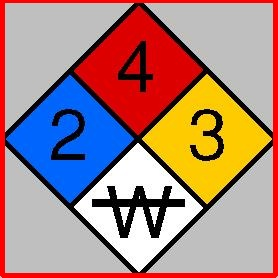nfpa: (2, 0, 275, 275)
